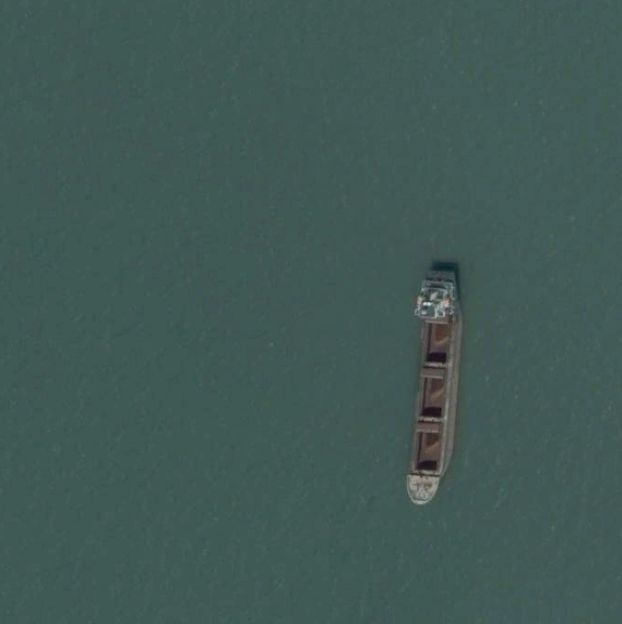boat: (404, 267, 467, 509)
